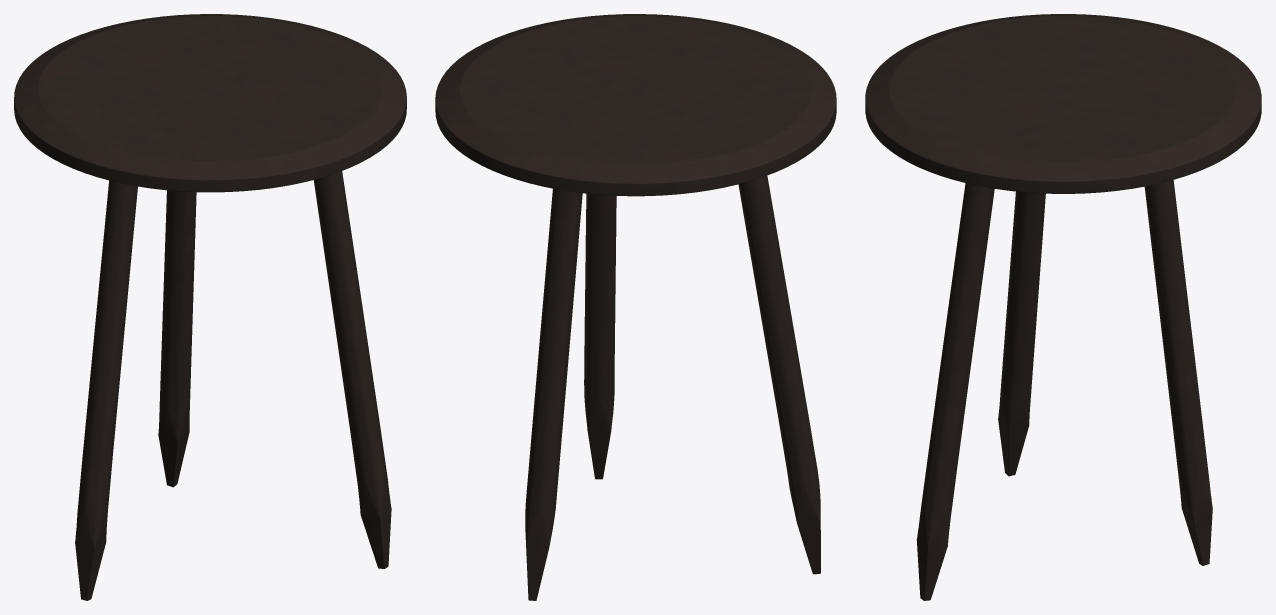
File: abo-B07TLDNSKB.glb
The picture shows the model from 3 angles, left to right: view 1: azimuth 30°, elevation 25°; view 2: azimuth 150°, elevation 25°; view 3: azimuth 270°, elevation 25°; orthographic projection. The views are drawn at different scales.
Bounding box in the file's own units: 0.457 × 0.585 × 0.457.
Materials: 1 (1 with a texture image).
